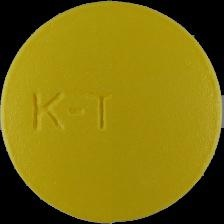50090-2114: (0, 0, 224, 224)
